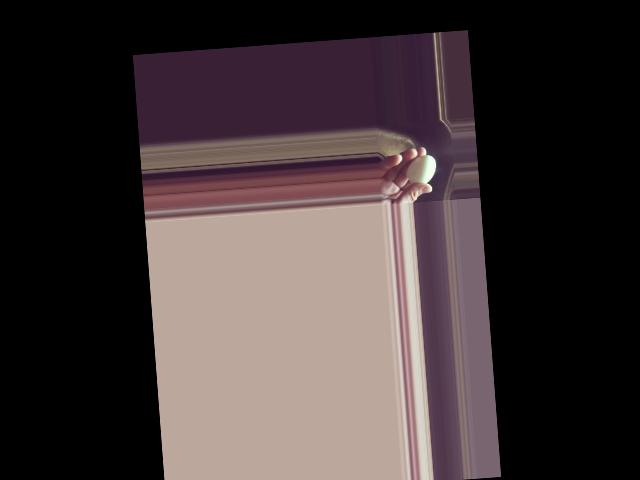egg: (405, 154, 437, 185)
